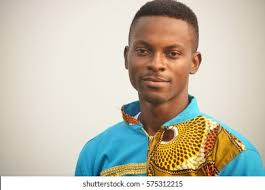person: (123, 1, 203, 106)
